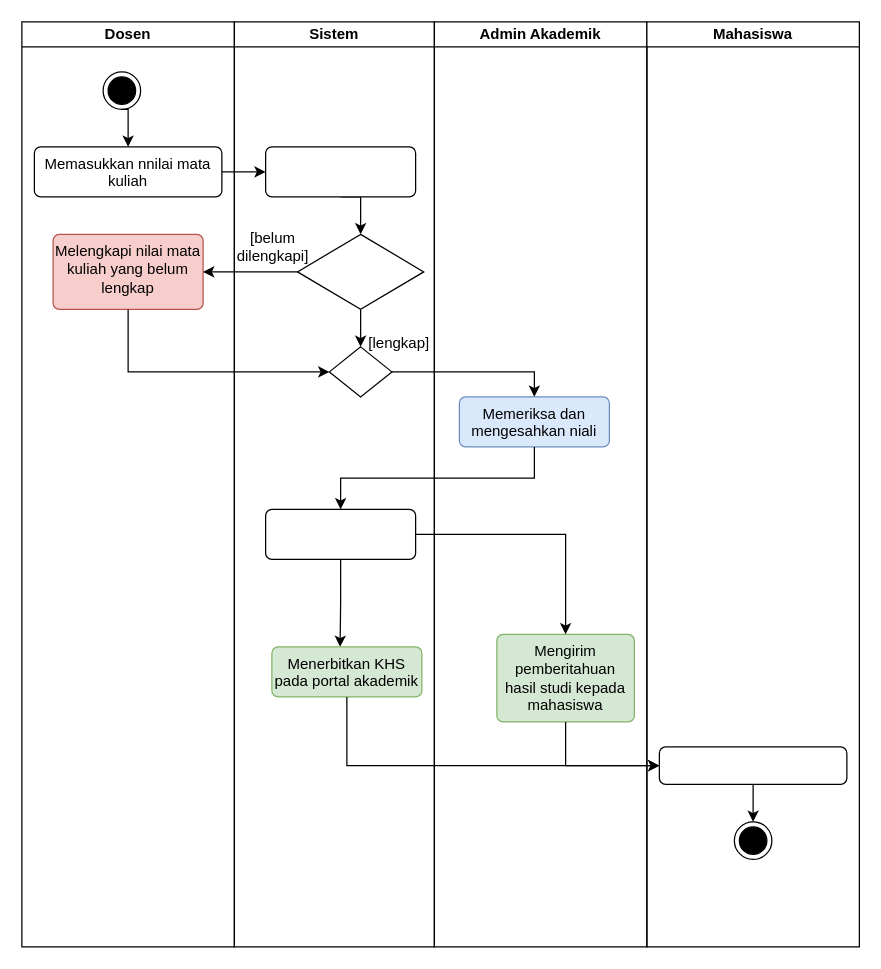
Some shapes in this 881 by 969 pixel diagram are drawn without their labels. The shapes that lost their labels are listed below. From the top down, each one's centre as x and y in pixels, then its label:
the point at 340,171: Menyimapan nilai mata kuliah
the point at 360,271: Nilai sudah lengkap?
the point at 340,533: Menyiapkkan publikasi hasik studi
the point at 752,765: Melihat KHS
